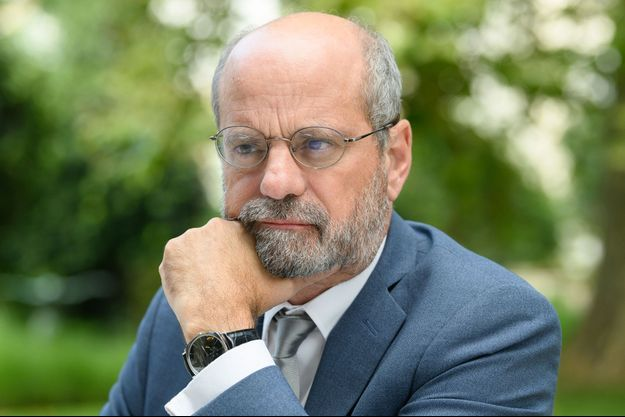without_mask: (221, 93, 365, 284)
